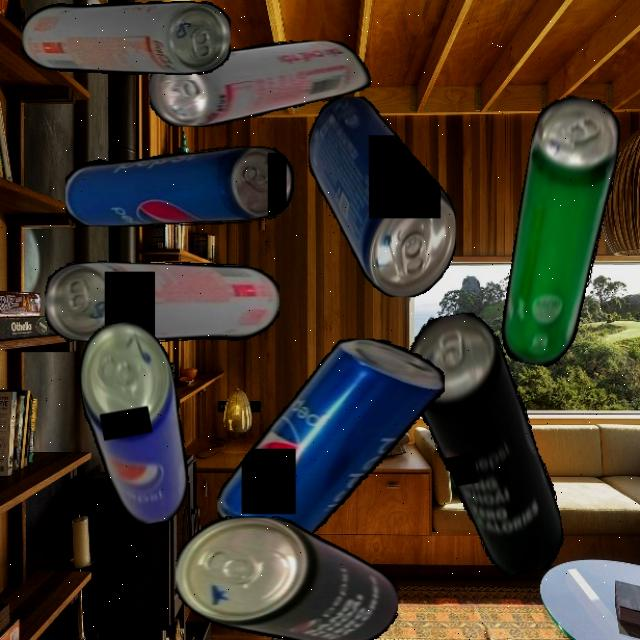debris: (217, 338, 445, 546), (401, 303, 568, 586), (494, 90, 626, 372), (308, 96, 456, 297), (176, 515, 398, 640), (70, 316, 198, 531), (148, 39, 371, 127), (44, 260, 280, 342), (64, 146, 294, 226), (21, 1, 230, 75)
